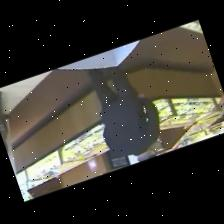person: (87, 66, 158, 161)
